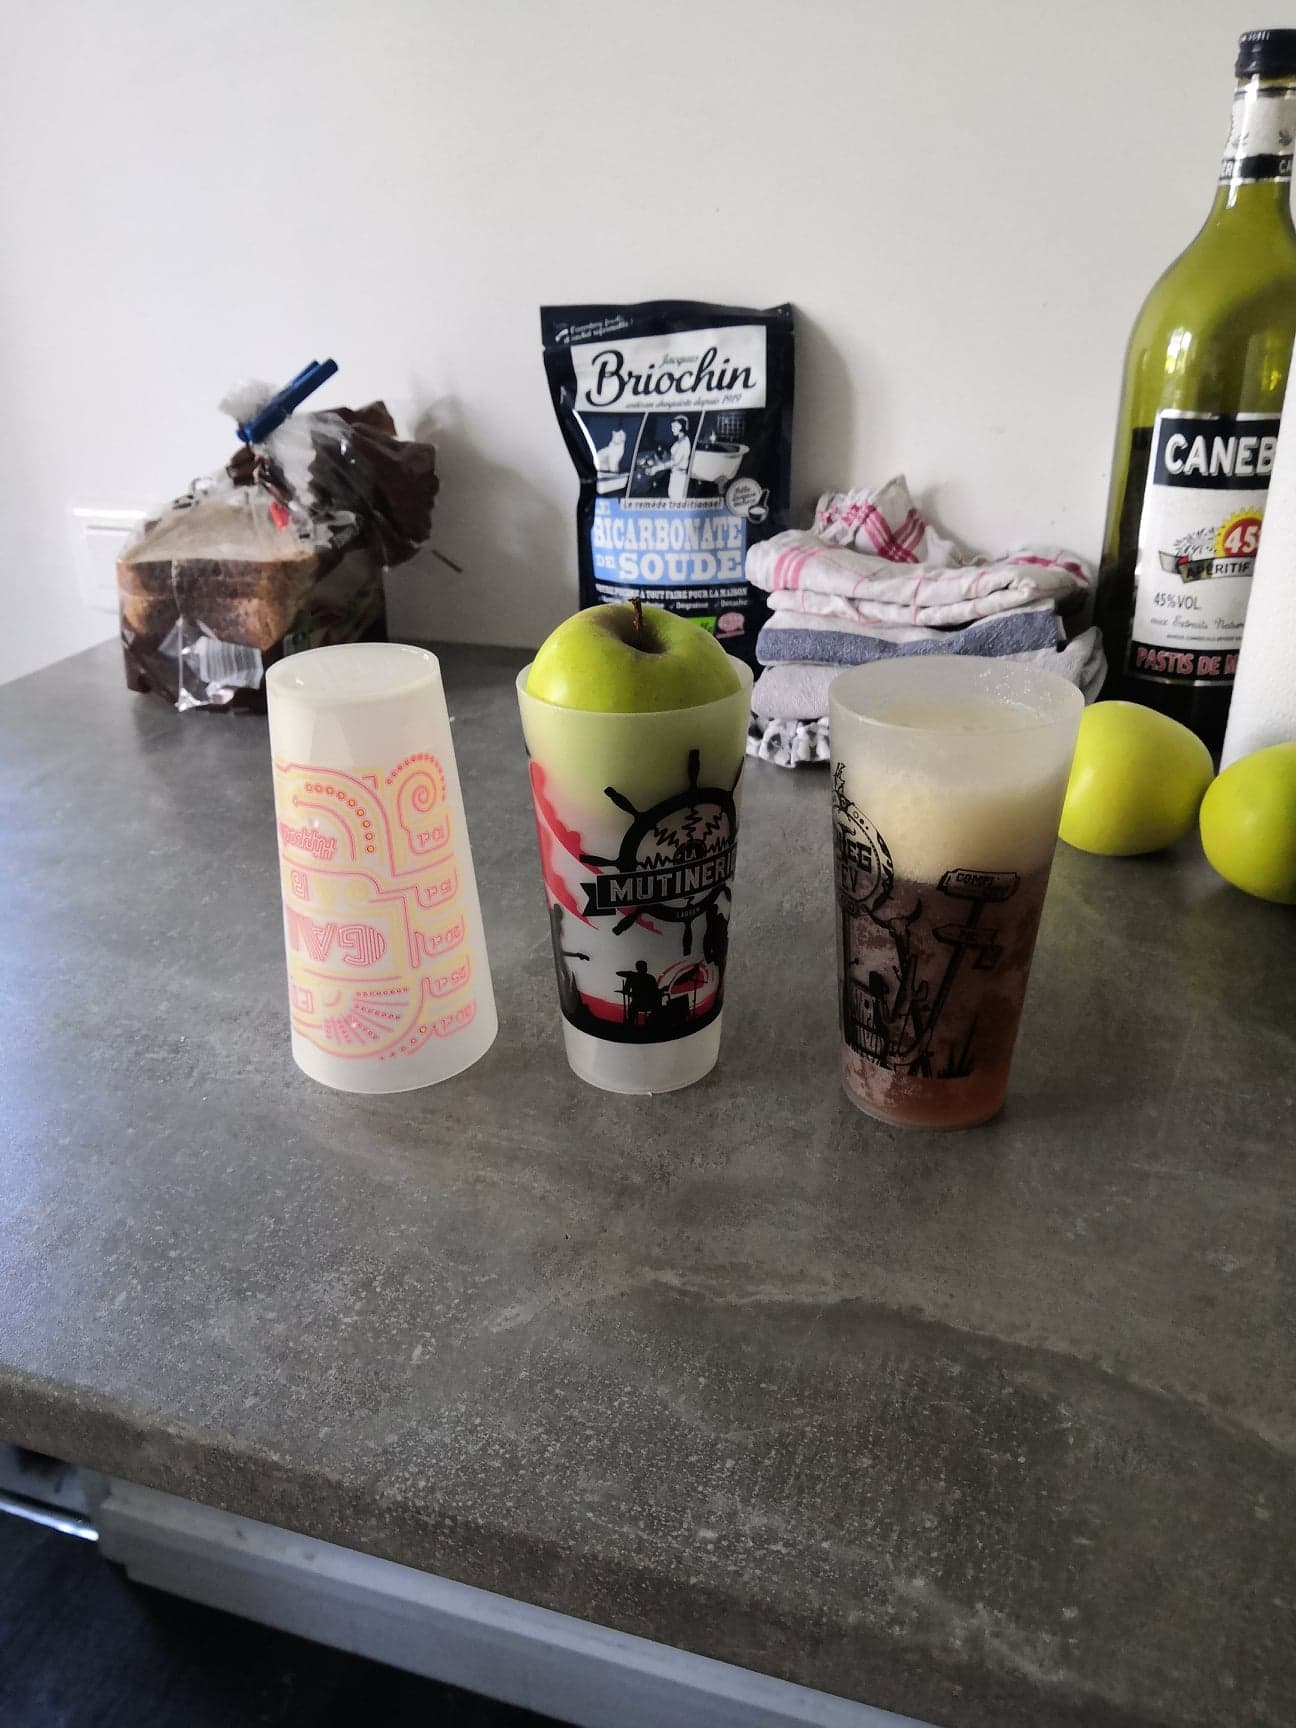ecocup: (479, 639, 761, 1103), (820, 650, 1085, 1123), (261, 639, 500, 1099)
